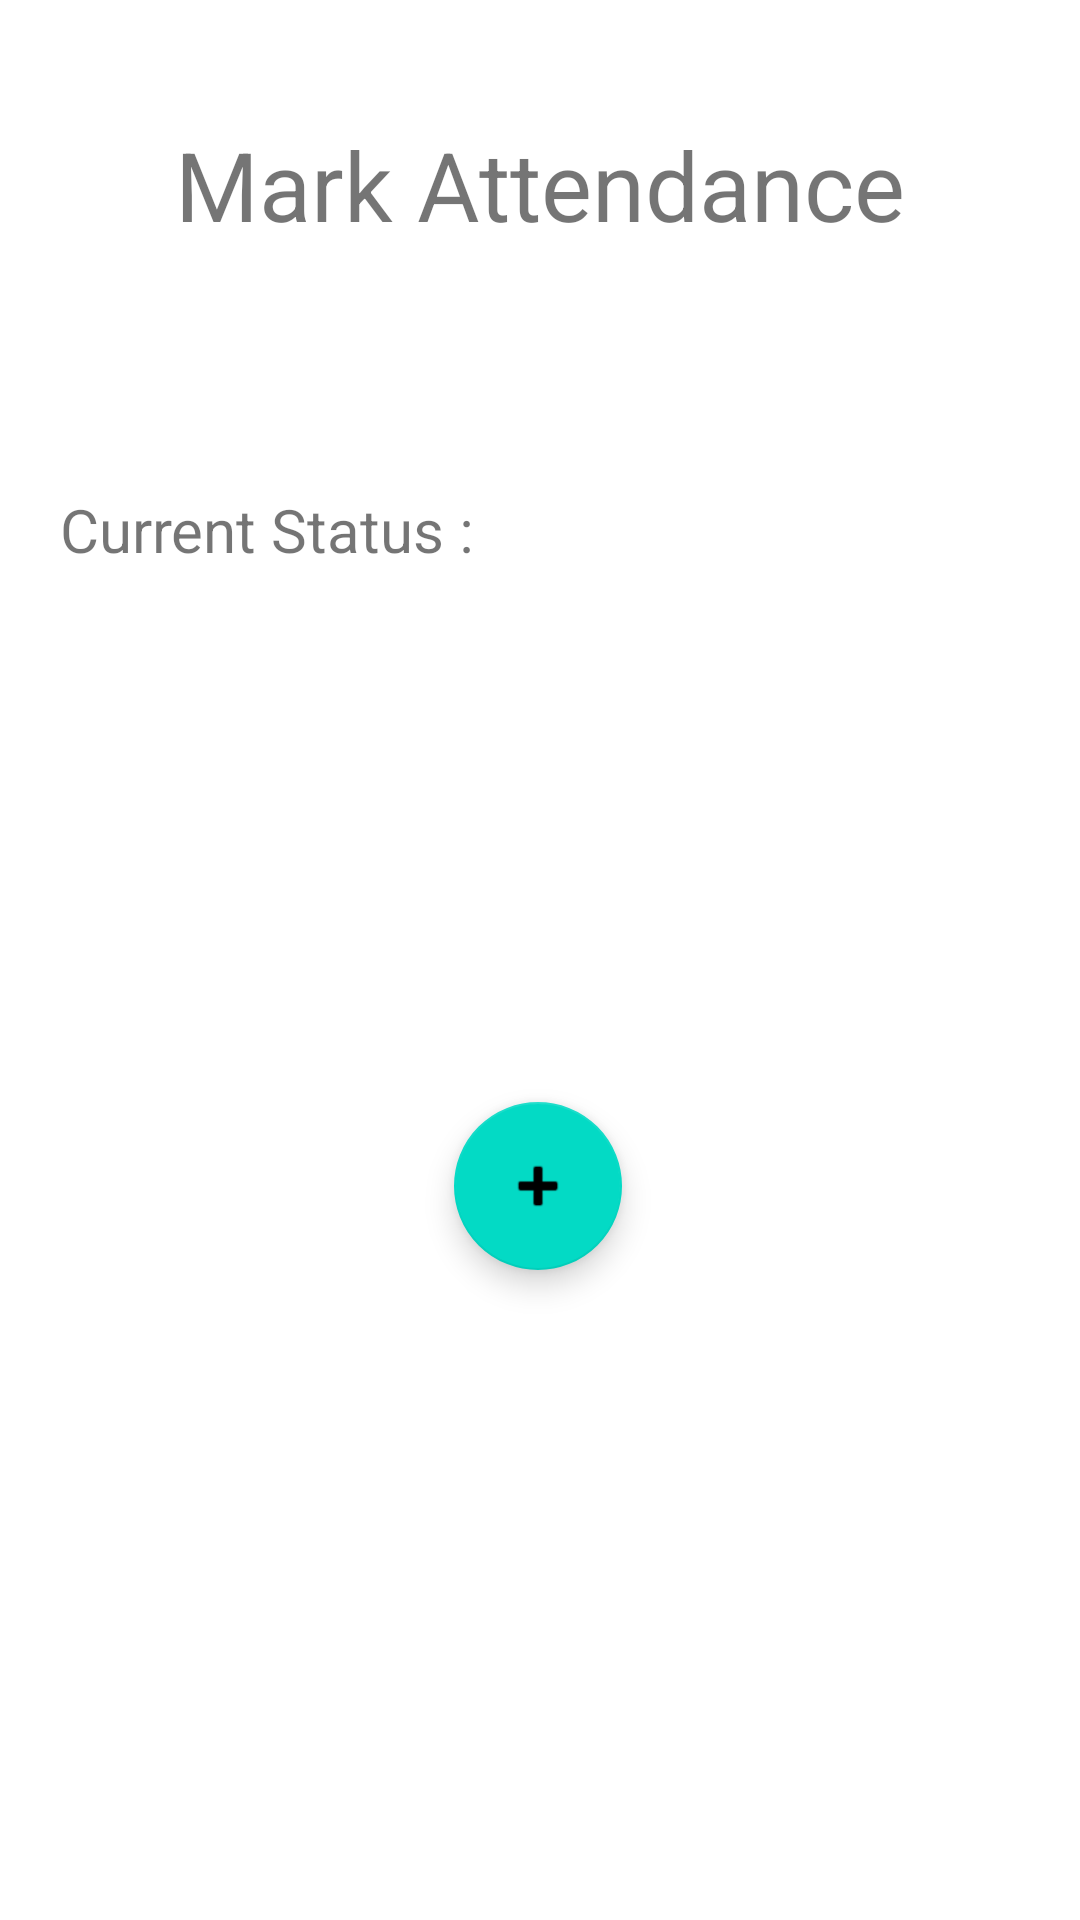

Named icons in this screenshot (1080×1920) and their centers, point (x, y):
add: point (538, 1186)
